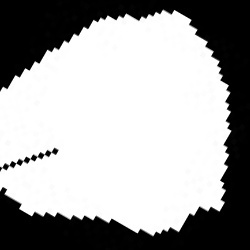spot: (2, 12, 230, 237)
